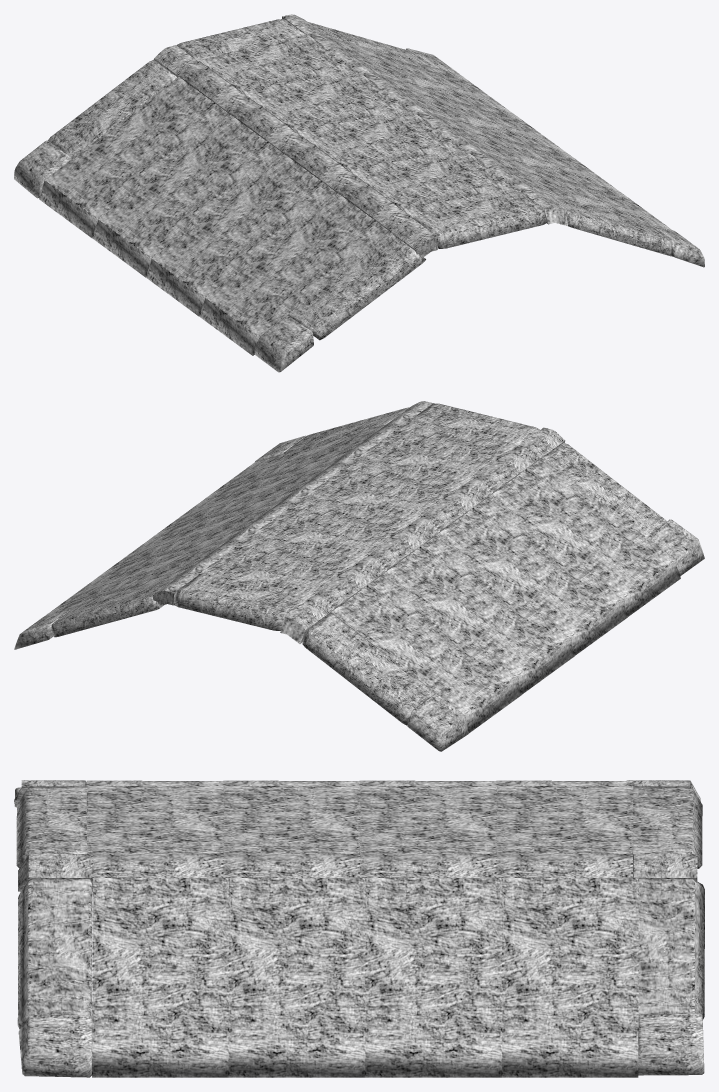
Rendered from house_1_roof.fbx.
The picture shows the model from 3 angles, top to bottom: view 1: azimuth 30°, elevation 25°; view 2: azimuth 150°, elevation 25°; view 3: azimuth 270°, elevation 25°; orthographic projection. The views are drawn at different scales.
Visible parts, largest first — view 1: techo_paja_4x3.002; view 2: techo_paja_4x3.002; view 3: techo_paja_4x3.002.
Part boxes in pixels (<box>): techo_paja_4x3.002: <box>14,14,704,372</box>; techo_paja_4x3.002: <box>14,401,704,751</box>; techo_paja_4x3.002: <box>14,780,704,1077</box>.
Bounding box in the file's own units: 1400 × 301 × 1517.
